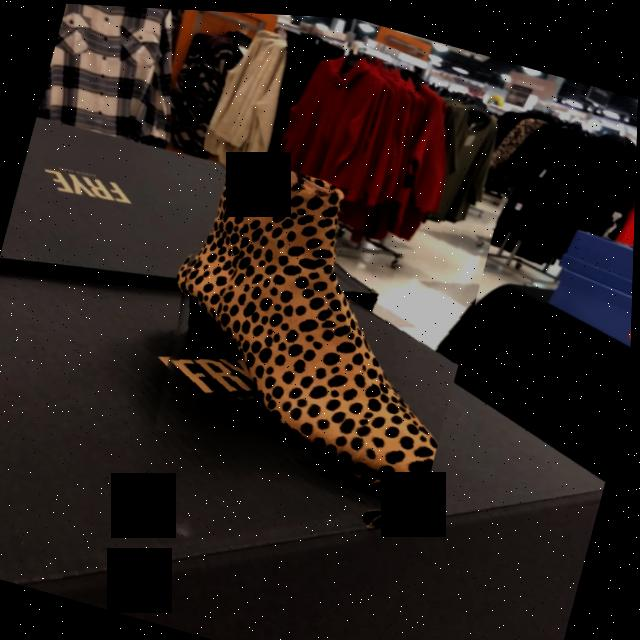shoe: (185, 155, 439, 484)
